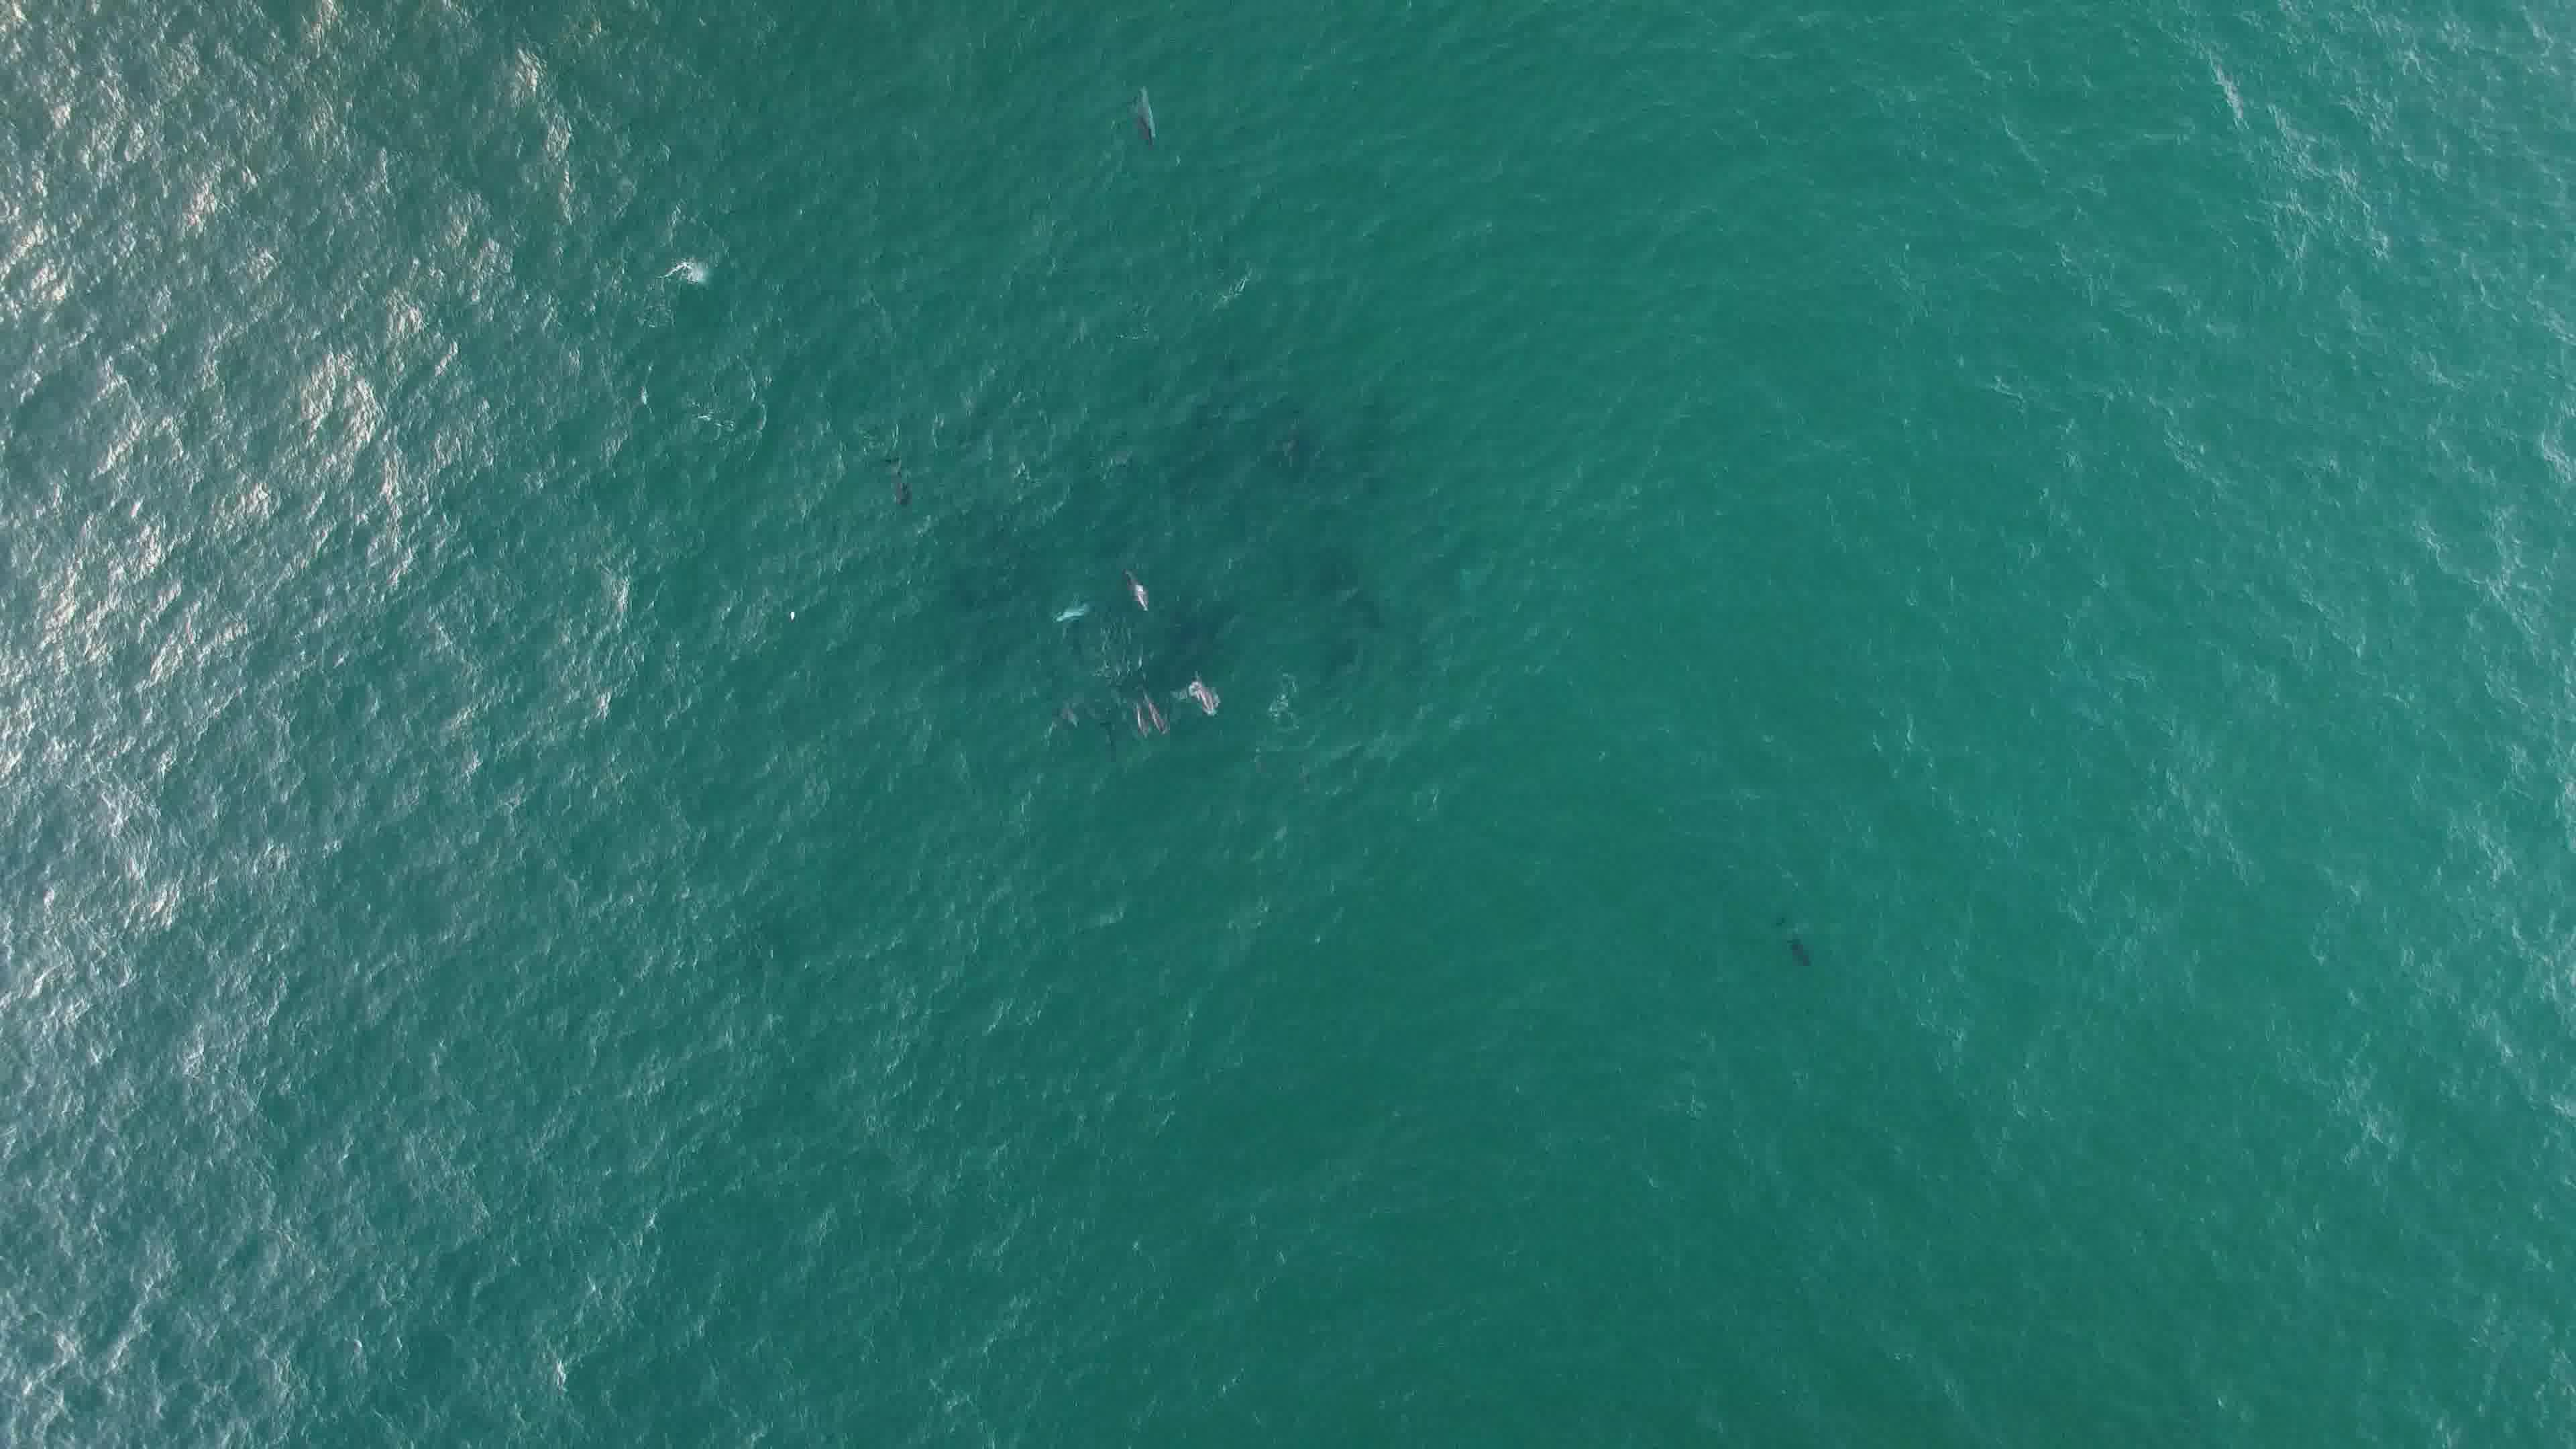dolphin: (1760, 892, 1822, 980), (1109, 541, 1161, 619), (1180, 658, 1231, 731), (1132, 669, 1180, 747)
